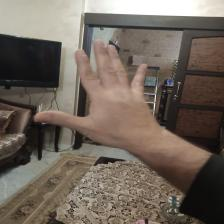five: (43, 40, 161, 150)
